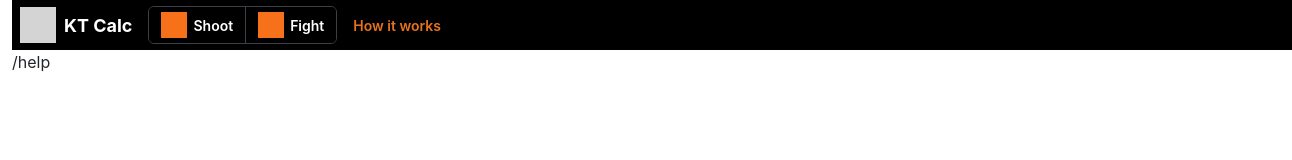
Test: navigation from /help › opens the Fight calculator
Click the link with aria-label "Kill Team Fight Calculator".
click(291, 25)  # box [245, 7, 336, 43]
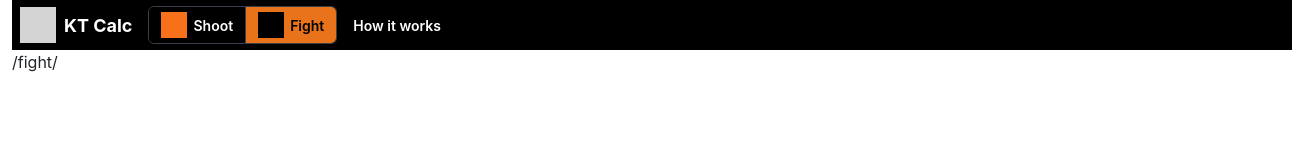
Now the text with test id "location" reads "/fight/", box [12, 52, 58, 72]
